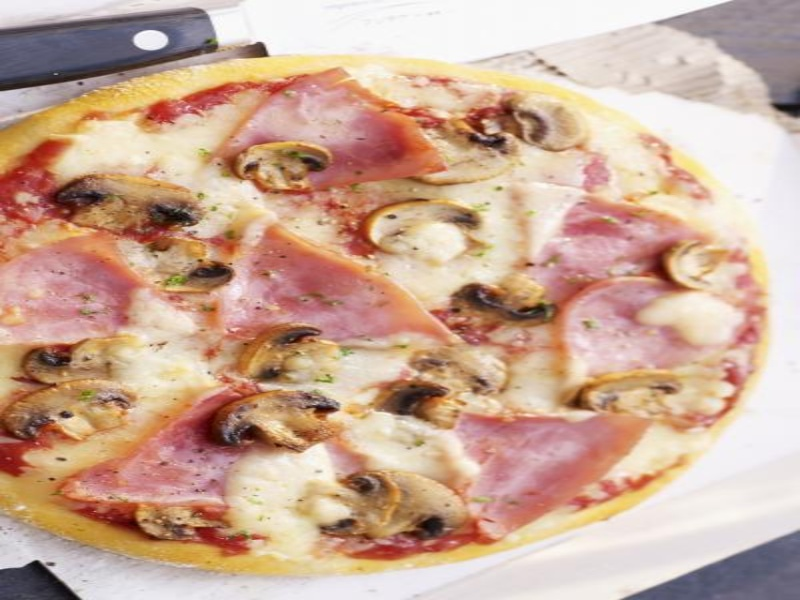champignon: (331, 466, 475, 551), (51, 168, 206, 246), (4, 377, 155, 452), (209, 383, 338, 459), (231, 316, 357, 387), (363, 197, 497, 263), (448, 264, 558, 334), (567, 358, 685, 423), (230, 139, 339, 204)
